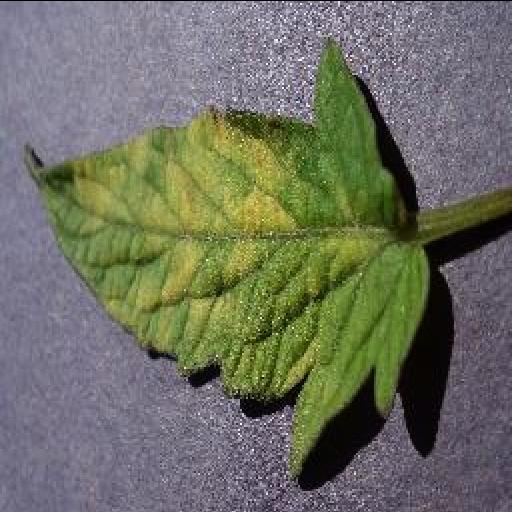disease_tomato: (24, 36, 434, 476)
